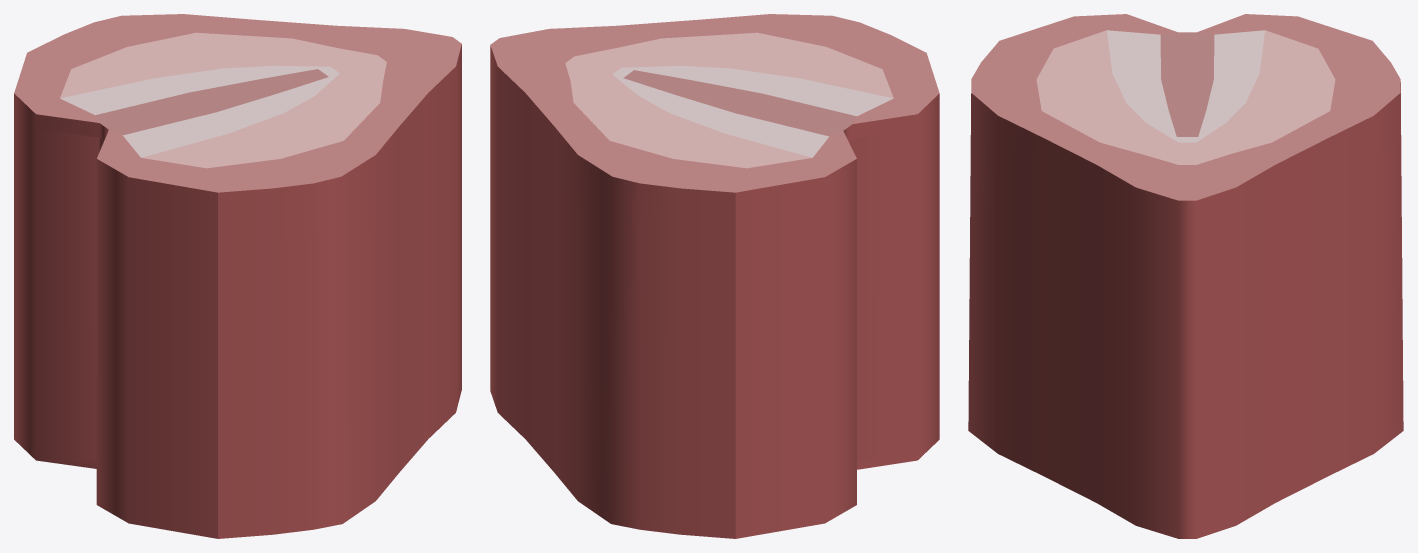
Rendered from strawberry.fbx.
3 views of the same model, side by side, from view 1: azimuth 30°, elevation 25°; view 2: azimuth 150°, elevation 25°; view 3: azimuth 270°, elevation 25° (orthographic). The views are drawn at different scales.
Visible parts, largest first — view 1: strawberry; view 2: strawberry; view 3: strawberry.
Boxes of the visible parts, box(x1,y1,x2,y2) form: strawberry: box(14, 14, 461, 538); strawberry: box(490, 14, 939, 538); strawberry: box(968, 14, 1403, 538).
Bounding box in the file's own units: 414 × 350 × 408.
